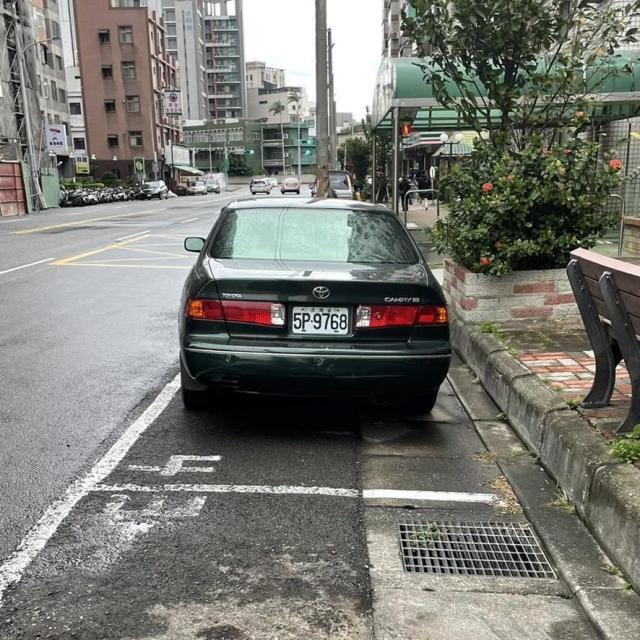W: (286, 300, 357, 339)
